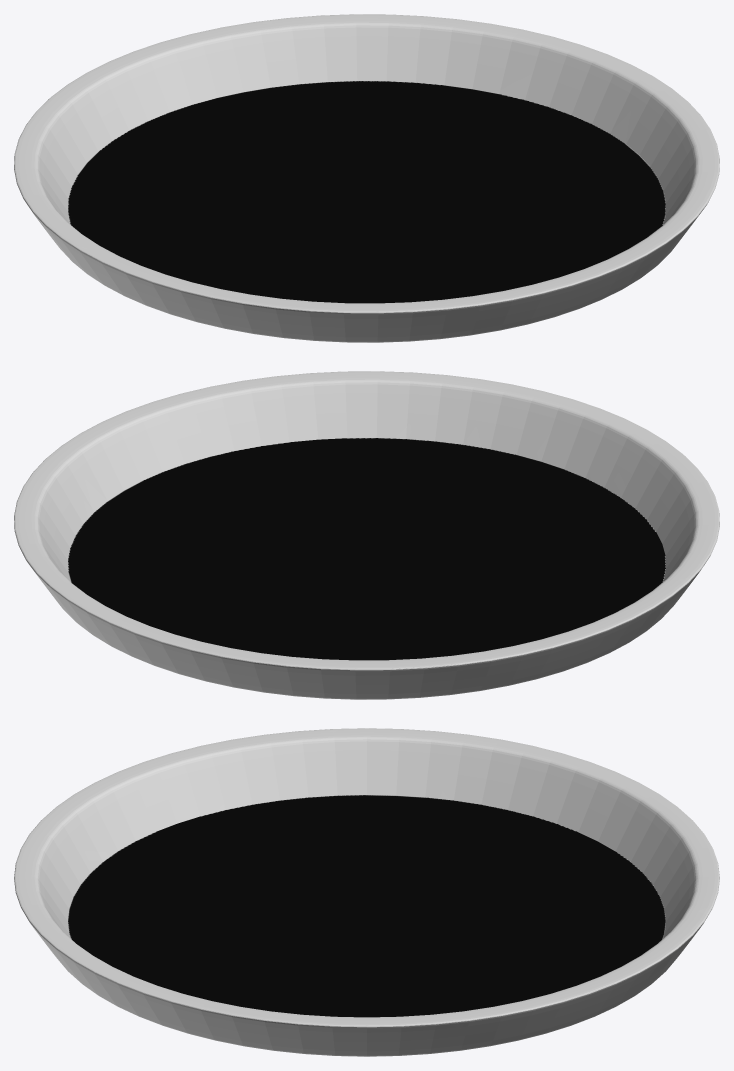
Rendered from white wall.glb.
3 renders of one model, top to bottom at view 1: azimuth 30°, elevation 25°; view 2: azimuth 150°, elevation 25°; view 3: azimuth 270°, elevation 25°, orthographic.
Parts seen in each view (by area): view 1: white wall large; view 2: white wall large; view 3: white wall large.
Part boxes in pixels (x1=…): white wall large: x1=14, y1=14, x2=719, y2=342; white wall large: x1=14, y1=371, x2=719, y2=699; white wall large: x1=14, y1=728, x2=719, y2=1056.
Bounding box in the file's own units: 93.94 × 6.56 × 93.94.
1 material, 1 textured.
